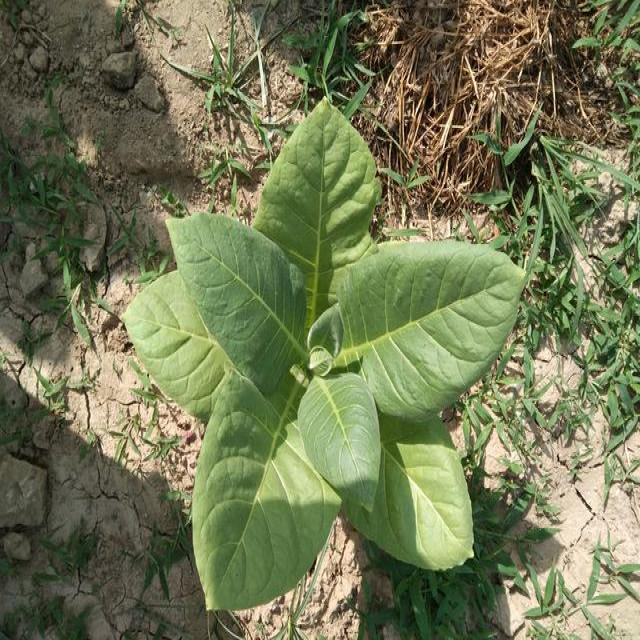crop: (121, 93, 521, 614)
